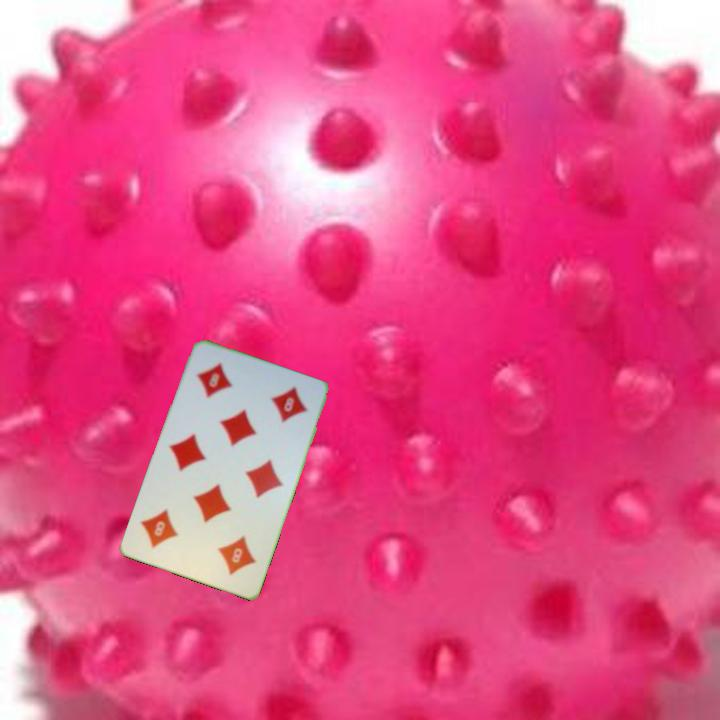d_8.png: (181, 348, 262, 424), (188, 513, 269, 589)
